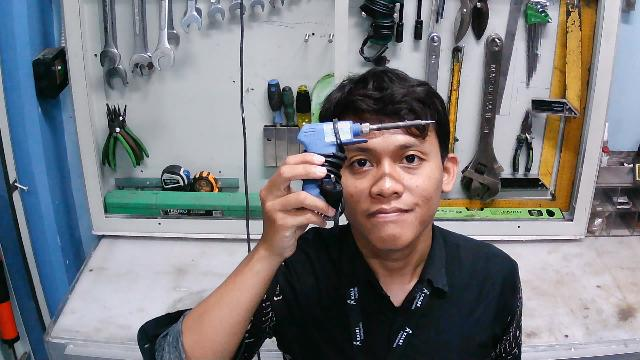solder_electrical: (297, 117, 436, 230)
